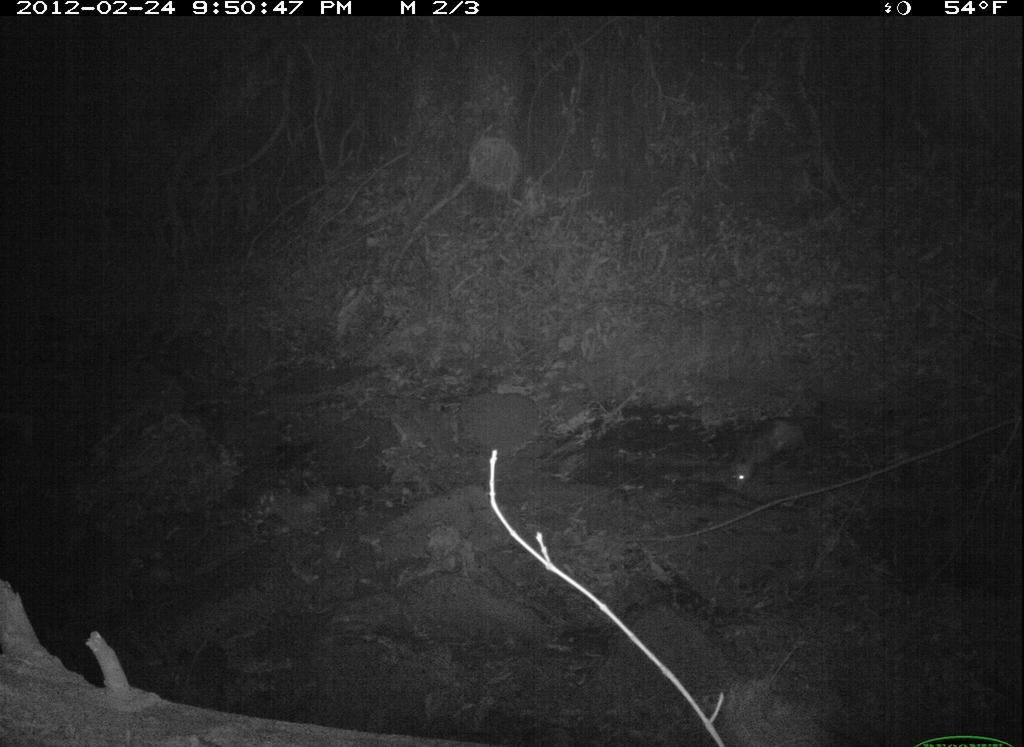opossum: (689, 405, 828, 502)
